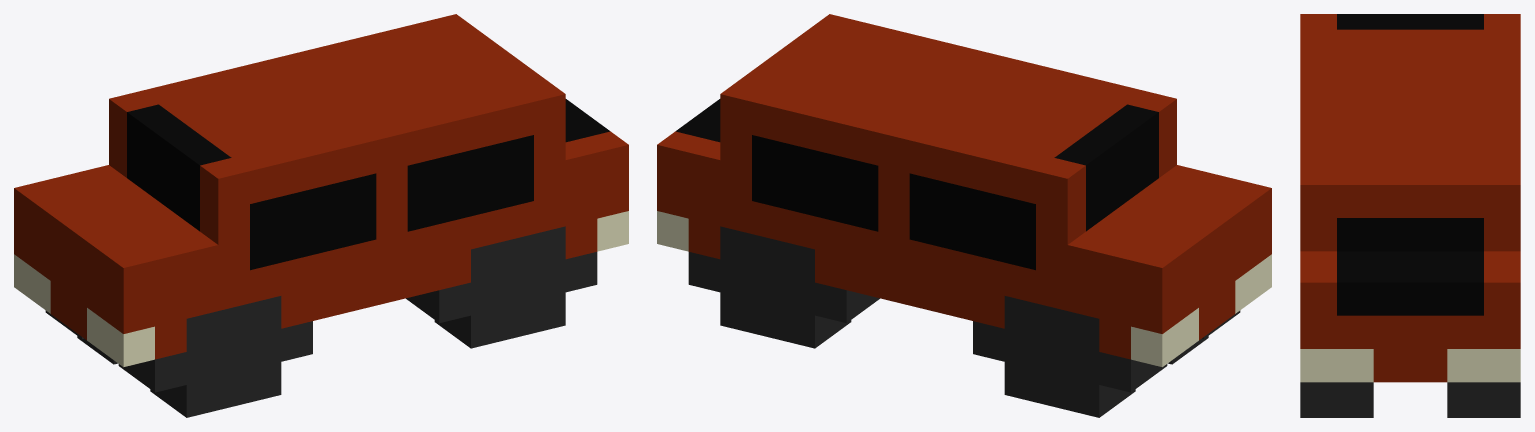
File: car3.obj
3 renders of one model, left to right at view 1: azimuth 30°, elevation 25°; view 2: azimuth 150°, elevation 25°; view 3: azimuth 270°, elevation 25°, orthographic.
Size of the model in its own units: 1.6 by 0.7 by 0.6.
1 material, 1 textured.
